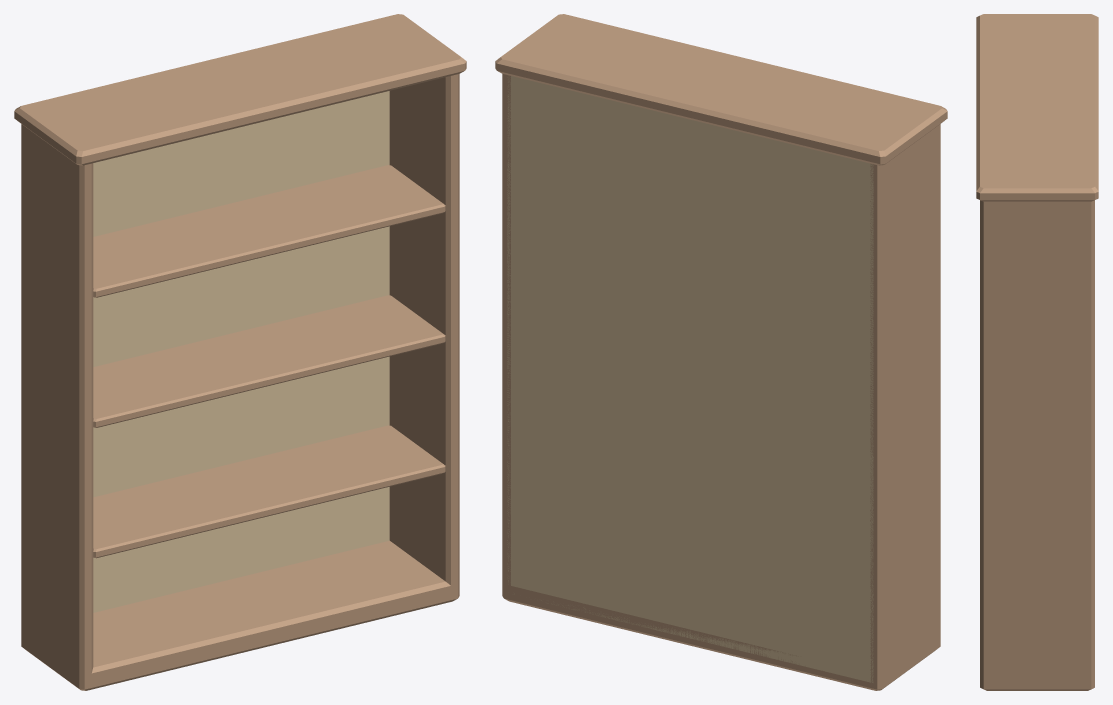
File: lab_bookcase.glb
3 renders of one model, left to right at view 1: azimuth 30°, elevation 25°; view 2: azimuth 150°, elevation 25°; view 3: azimuth 270°, elevation 25°, orthographic. The views are drawn at different scales.
Visible parts, largest first — view 1: lab_bookcase; view 2: lab_bookcase; view 3: lab_bookcase.
Part boxes in pixels (left/top/right/bottom): lab_bookcase: left=14, top=14, right=466, bottom=690; lab_bookcase: left=495, top=14, right=947, bottom=690; lab_bookcase: left=976, top=14, right=1098, bottom=690.
Bounding box in the file's own units: 2.26 × 3 × 0.66.
